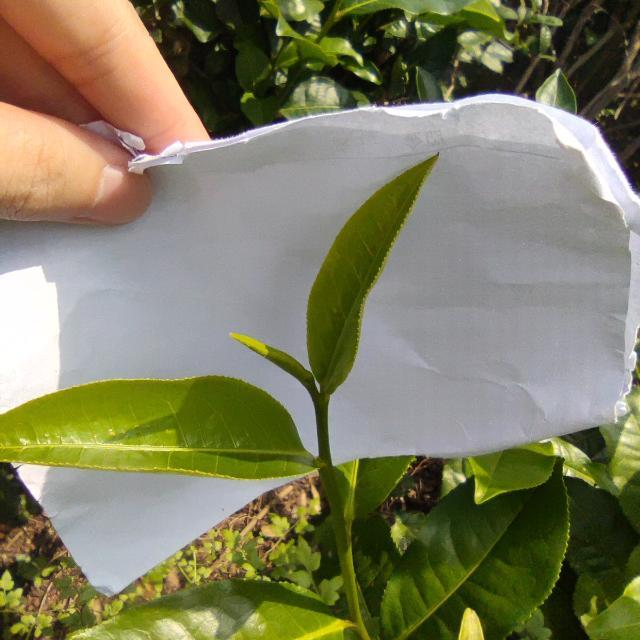Stem: (314, 401, 328, 419)
